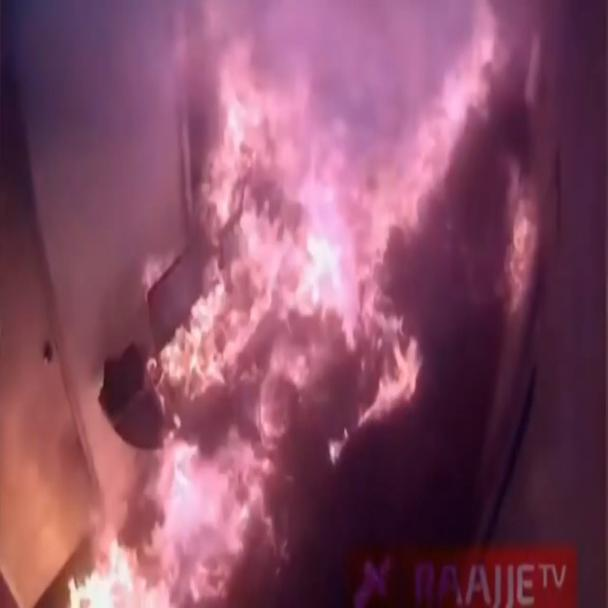Fire: (0, 0, 591, 585)
